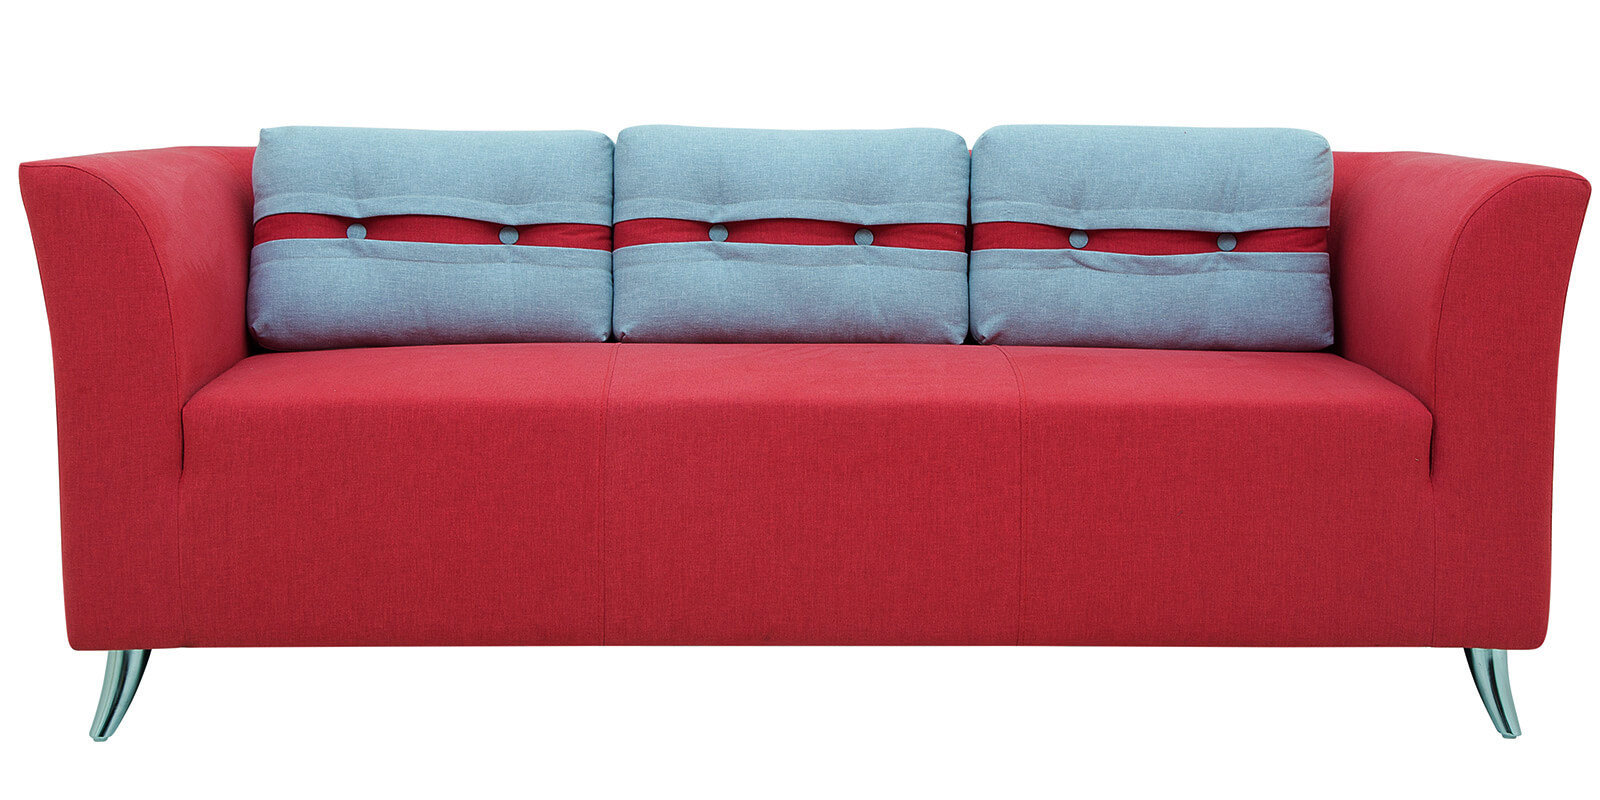Iowa Three Seater Sofa in Crimson Red Colour by Furnitech: (11, 100, 1577, 771)
